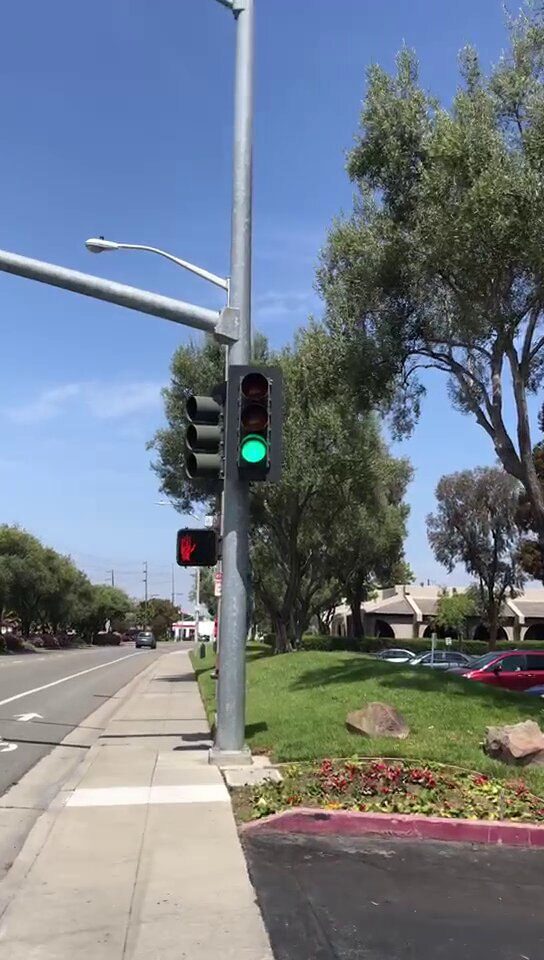green_light: (232, 366, 279, 477)
